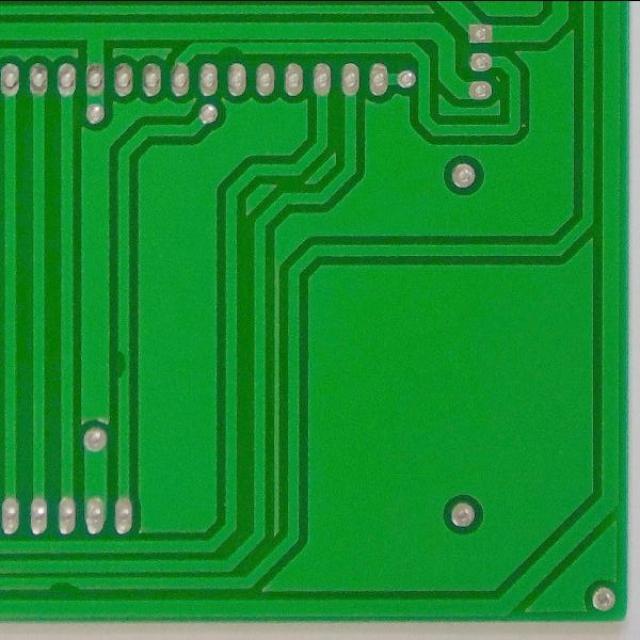mouse_bite: (213, 40, 251, 60), (112, 342, 130, 383), (47, 578, 84, 593)
